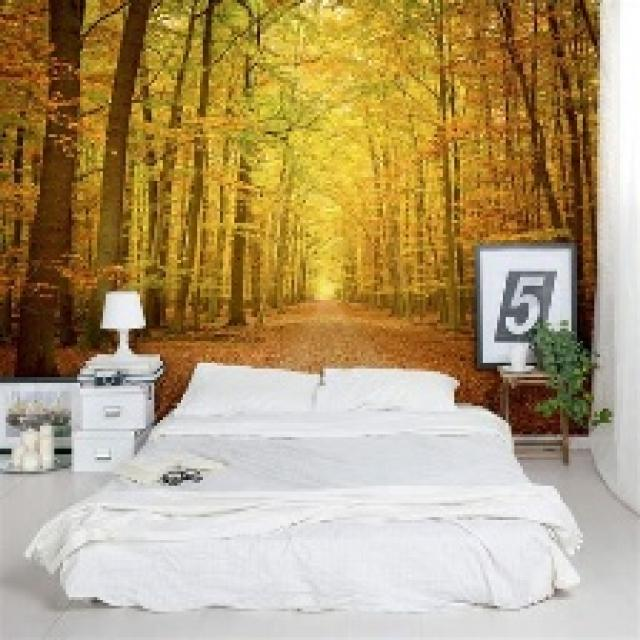bed: (194, 366, 446, 609)
lamp: (94, 284, 150, 356)
